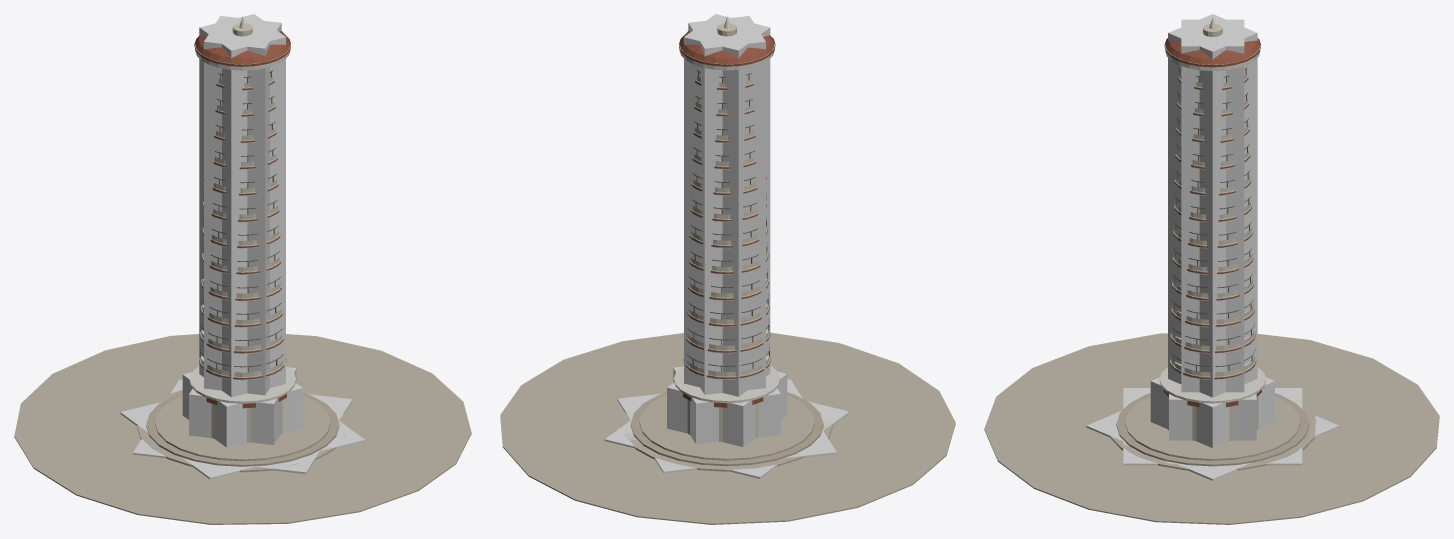
The model's file is anna-nagar-tower.glb.
3 views of the same model, side by side, from view 1: azimuth 30°, elevation 25°; view 2: azimuth 150°, elevation 25°; view 3: azimuth 270°, elevation 25° (orthographic).
Parts seen in each view (by area): view 1: LOD0, COL_04, COL_05, COL_02, COL_03, COL_00, COL_01; view 2: LOD0, COL_04, COL_05, COL_02, COL_03, COL_01, COL_00; view 3: LOD0, COL_05, COL_04, COL_03, COL_02, COL_01, COL_00.
Part boxes in pixels (left/top/right/bottom): LOD0: left=14, top=16, right=471, bottom=524; COL_04: left=199, top=14, right=285, bottom=397; COL_05: left=204, top=16, right=281, bottom=395; COL_02: left=182, top=372, right=302, bottom=447; COL_03: left=189, top=367, right=296, bottom=444; COL_00: left=120, top=402, right=365, bottom=479; COL_01: left=133, top=379, right=352, bottom=473; LOD0: left=500, top=16, right=955, bottom=524; COL_04: left=684, top=14, right=770, bottom=396; COL_05: left=688, top=16, right=765, bottom=394; COL_02: left=667, top=372, right=787, bottom=446; COL_03: left=673, top=366, right=780, bottom=444; COL_01: left=617, top=379, right=836, bottom=473; COL_00: left=604, top=401, right=849, bottom=478; LOD0: left=984, top=17, right=1439, bottom=524; COL_05: left=1168, top=14, right=1257, bottom=397; COL_04: left=1181, top=19, right=1244, bottom=392; COL_03: left=1150, top=377, right=1274, bottom=447; COL_02: left=1169, top=393, right=1256, bottom=440; COL_01: left=1086, top=410, right=1339, bottom=480; COL_00: left=1123, top=388, right=1302, bottom=465.
Size of what is drawn, in the model's own units: 41.09 by 41 by 41.09.
